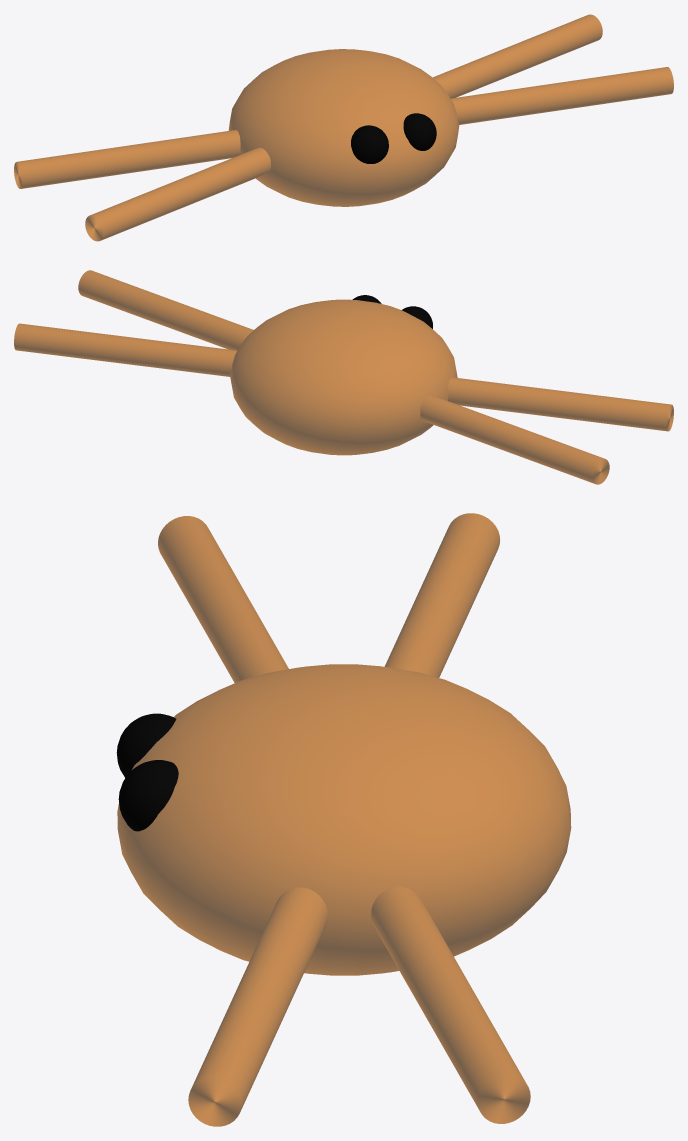
3 views of the same model, one above another, from view 1: azimuth 30°, elevation 25°; view 2: azimuth 150°, elevation 25°; view 3: azimuth 270°, elevation 25° (orthographic). The views are drawn at different scales.
Visible parts, largest first — view 1: Sphere, Cylinder.002, Cylinder.004, Sphere.001, Sphere.002; view 2: Sphere, Cylinder.004, Cylinder.002; view 3: Sphere, Cylinder.004, Cylinder.002, Sphere.002, Sphere.001.
Part boxes in pixels (<box>): Sphere: <box>228,49,459,206</box>; Cylinder.002: <box>14,67,673,188</box>; Cylinder.004: <box>85,14,602,241</box>; Sphere.001: <box>351,125,388,163</box>; Sphere.002: <box>403,113,436,150</box>; Sphere: <box>230,299,457,455</box>; Cylinder.004: <box>14,323,673,431</box>; Cylinder.002: <box>78,270,609,484</box>; Sphere: <box>117,664,571,975</box>; Cylinder.004: <box>158,516,530,1123</box>; Cylinder.002: <box>188,513,500,1126</box>; Sphere.002: <box>118,760,178,831</box>; Sphere.001: <box>116,713,176,777</box>.
Size of the model in its own units: 1.98 by 0.4 by 0.6683.
